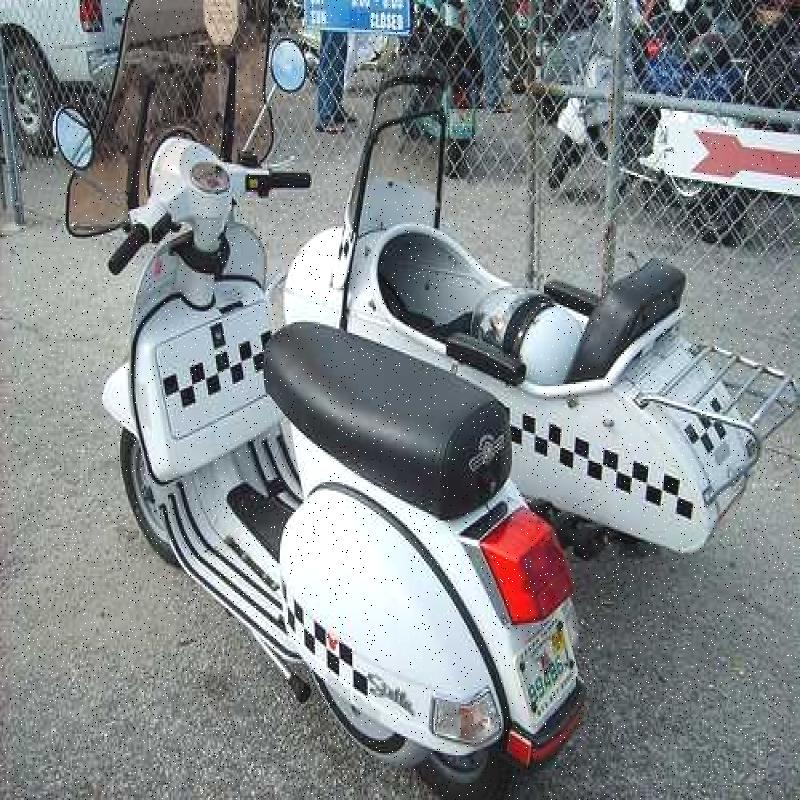bike: (68, 105, 579, 770)
